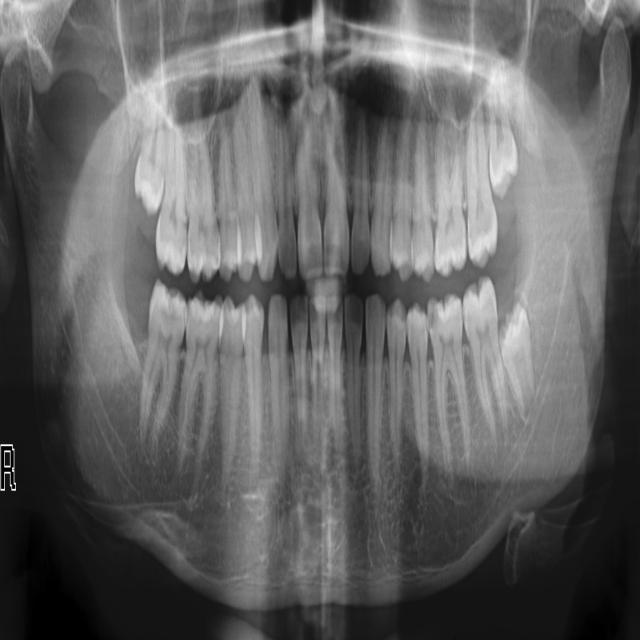tooth: (140, 283, 184, 447), (428, 297, 471, 462), (178, 297, 219, 460), (464, 279, 507, 428), (249, 99, 279, 277), (186, 128, 218, 279), (434, 123, 466, 274), (464, 116, 495, 264), (364, 296, 387, 489), (233, 120, 260, 278), (156, 130, 186, 272), (219, 299, 244, 466), (296, 126, 323, 277), (410, 126, 436, 277), (215, 128, 241, 277), (323, 115, 347, 276), (275, 114, 298, 278), (241, 299, 264, 461), (500, 307, 535, 409), (407, 305, 430, 460), (266, 296, 289, 444), (370, 119, 392, 273), (386, 300, 407, 461), (349, 112, 370, 272), (392, 124, 413, 277), (134, 127, 166, 215), (488, 115, 519, 197), (345, 293, 363, 416), (291, 293, 307, 425), (327, 296, 343, 417), (311, 296, 326, 418)
